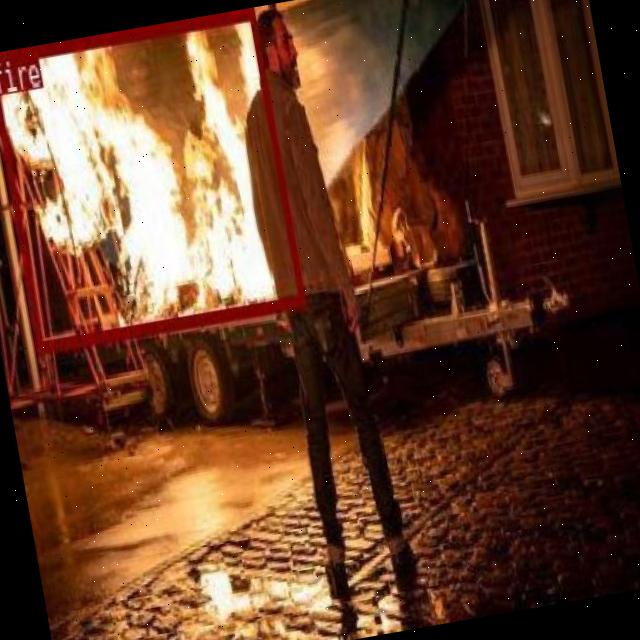fire: (0, 7, 303, 350)
